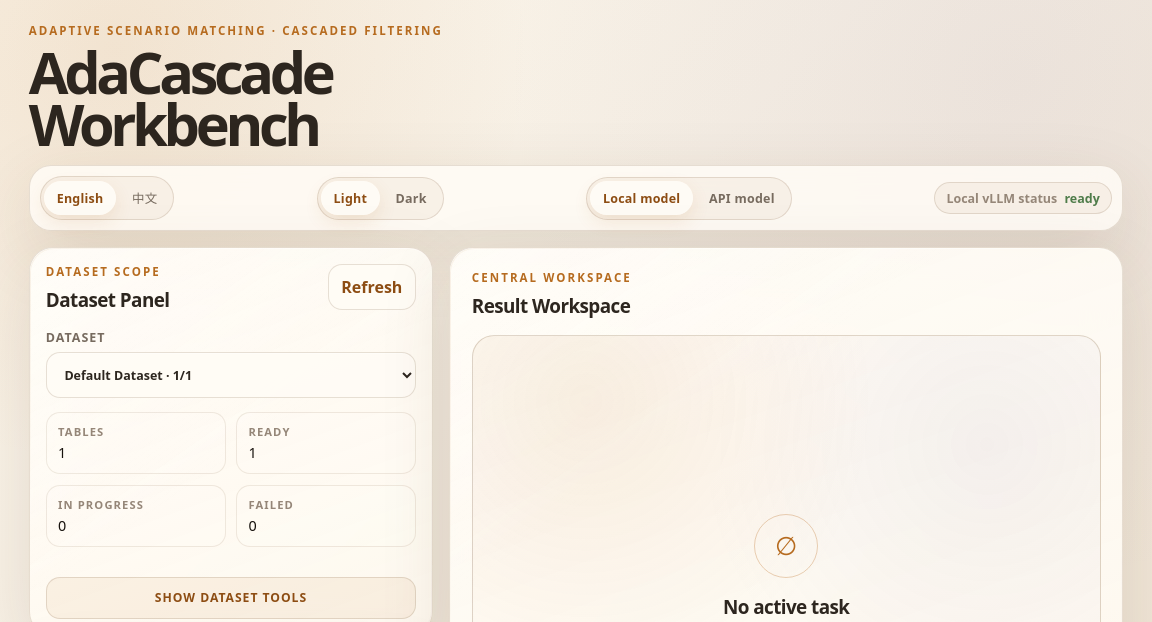
Test case: WorkspacePage › keeps Dataset upload controls collapsed until requested
Expected: the dropdown labelled "Dataset" is shown, [46,352,416,398]
Expected: the element named "Dataset table counts" shows "Tables", [58,424,104,439]
Click the button "Show Dataset tools": [231, 598] box [46,577,416,619]
(page scrolled)
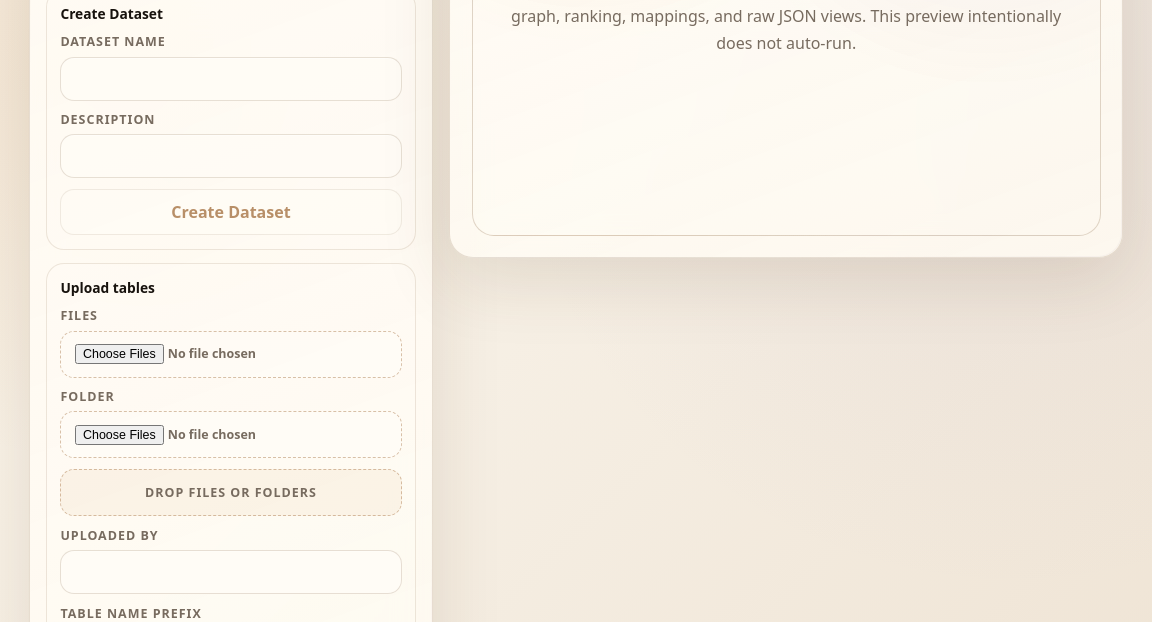
Result: the field labelled "Dataset name" is shown at [60,57,402,100]
Result: the file field labelled "Files" is shown at [60,331,402,378]
